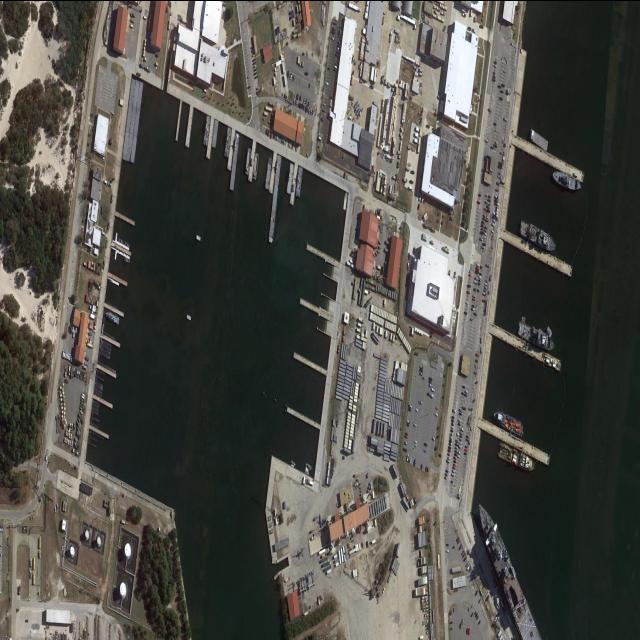large-vehicle: (33, 554, 35, 569), (39, 534, 41, 549), (33, 570, 35, 583), (30, 556, 32, 566), (30, 568, 32, 578), (39, 549, 41, 558)
ship: (474, 495, 543, 639), (519, 218, 557, 254), (518, 319, 555, 354), (498, 440, 536, 473), (268, 153, 282, 242), (493, 406, 523, 438), (551, 168, 582, 193), (230, 132, 240, 190), (529, 127, 549, 151), (265, 155, 273, 189), (203, 113, 211, 145), (295, 165, 303, 196), (224, 125, 232, 156), (105, 309, 120, 324), (287, 161, 294, 193), (212, 118, 219, 147), (245, 146, 252, 174), (253, 151, 259, 179), (358, 105, 363, 119), (305, 460, 312, 469), (353, 99, 358, 110), (356, 105, 361, 115), (290, 458, 296, 466), (515, 426, 521, 433), (355, 103, 359, 113), (101, 202, 104, 214), (516, 421, 521, 428), (505, 417, 510, 424), (105, 236, 108, 247), (510, 420, 516, 425), (103, 259, 106, 268), (108, 220, 110, 231), (512, 417, 516, 422), (111, 193, 113, 202)
small-vehicle: (63, 419, 68, 428), (60, 397, 65, 406), (61, 409, 66, 417), (61, 401, 66, 409), (60, 393, 65, 401), (62, 416, 66, 425), (60, 381, 65, 388), (61, 414, 66, 421), (350, 250, 355, 257), (463, 554, 467, 562), (494, 614, 498, 622), (62, 405, 66, 413), (60, 389, 64, 397), (460, 425, 465, 431), (70, 365, 73, 375), (408, 402, 413, 408), (462, 551, 466, 558), (465, 560, 469, 567), (468, 565, 472, 572), (470, 610, 474, 617), (60, 386, 64, 393), (253, 62, 257, 69), (136, 71, 141, 76), (452, 461, 457, 466), (479, 22, 484, 27), (471, 27, 476, 32), (410, 169, 415, 174), (409, 178, 414, 183), (493, 142, 498, 147), (494, 139, 499, 144), (461, 549, 465, 555), (459, 542, 462, 550), (471, 602, 475, 608), (475, 588, 478, 596), (468, 627, 471, 635), (466, 626, 469, 634), (459, 621, 462, 629), (458, 442, 462, 448), (457, 452, 461, 458), (68, 365, 71, 373), (475, 268, 479, 274), (331, 34, 335, 40), (488, 106, 492, 112), (406, 421, 410, 427), (403, 445, 407, 451), (85, 355, 89, 361), (431, 386, 435, 392), (287, 69, 290, 77), (318, 134, 322, 140), (253, 69, 257, 75), (267, 128, 270, 136), (478, 617, 481, 624), (478, 597, 481, 604), (461, 617, 464, 624), (420, 462, 423, 469), (303, 95, 306, 102), (252, 56, 255, 63), (447, 457, 451, 462), (447, 451, 451, 456), (450, 427, 454, 432), (131, 11, 135, 16), (464, 309, 468, 314), (470, 316, 474, 321), (460, 429, 464, 434), (452, 464, 456, 469), (453, 455, 457, 460), (454, 448, 458, 453), (458, 416, 462, 421), (69, 421, 71, 431), (81, 393, 85, 398), (80, 399, 84, 404), (71, 422, 73, 432), (486, 262, 490, 267), (335, 51, 339, 56), (331, 29, 335, 34), (331, 25, 335, 30), (349, 258, 353, 263), (441, 10, 445, 15), (462, 11, 466, 16), (498, 173, 502, 178), (498, 163, 503, 167), (498, 160, 503, 164), (468, 25, 472, 30), (503, 68, 507, 73), (494, 197, 498, 202), (485, 137, 489, 142), (499, 95, 503, 100), (500, 88, 504, 93), (325, 80, 329, 85), (466, 289, 470, 294), (414, 438, 418, 443), (407, 418, 411, 423), (404, 433, 408, 438), (427, 391, 431, 396), (88, 330, 92, 335), (415, 350, 419, 355), (102, 230, 106, 235), (111, 109, 115, 114), (247, 84, 251, 89), (254, 74, 258, 79), (456, 535, 459, 541), (467, 563, 470, 569), (474, 608, 477, 614), (475, 611, 478, 617), (476, 613, 479, 619), (468, 605, 471, 611), (472, 305, 475, 311), (73, 366, 75, 375), (77, 368, 79, 377), (81, 370, 83, 379), (82, 370, 84, 379), (80, 401, 83, 407), (56, 502, 59, 508), (444, 471, 448, 475), (444, 475, 448, 479), (445, 468, 449, 472), (447, 455, 451, 459), (447, 447, 451, 451), (453, 605, 455, 613), (459, 433, 463, 437), (458, 440, 462, 444), (469, 406, 473, 410), (451, 414, 455, 418), (473, 311, 477, 315), (462, 405, 466, 409), (464, 392, 468, 396), (452, 407, 456, 411), (453, 458, 457, 462), (454, 451, 458, 455), (455, 438, 459, 442), (461, 390, 465, 394), (73, 329, 75, 337), (75, 326, 77, 334), (69, 352, 71, 360), (68, 351, 70, 359), (66, 351, 68, 359), (65, 350, 67, 358), (66, 435, 68, 443), (66, 427, 68, 435), (472, 296, 476, 300), (465, 299, 469, 303), (479, 264, 483, 268), (482, 244, 486, 248), (482, 241, 486, 245), (481, 219, 485, 223), (486, 207, 490, 211), (478, 274, 482, 278), (327, 65, 331, 69), (375, 207, 377, 215), (474, 279, 478, 283), (492, 77, 496, 81), (492, 70, 496, 74), (493, 121, 497, 125), (498, 170, 502, 174), (476, 262, 480, 266), (477, 199, 481, 203), (491, 228, 495, 232), (495, 187, 499, 191), (496, 180, 500, 184), (490, 144, 494, 148), (500, 150, 504, 154), (504, 116, 508, 120), (424, 441, 428, 445), (408, 406, 412, 410), (405, 430, 409, 434), (415, 407, 419, 411), (419, 399, 423, 403), (467, 283, 471, 287), (484, 285, 488, 289), (282, 91, 284, 99), (284, 91, 286, 99), (290, 71, 292, 79), (270, 130, 272, 138), (108, 181, 112, 185), (130, 23, 134, 27), (130, 18, 134, 22), (457, 538, 460, 543), (449, 437, 452, 442), (464, 450, 467, 455), (476, 351, 479, 356), (475, 357, 478, 362), (82, 391, 85, 396), (81, 396, 84, 401), (80, 409, 83, 414), (472, 302, 475, 307), (480, 236, 483, 241), (323, 101, 326, 106), (475, 275, 478, 280), (334, 66, 337, 71), (492, 73, 495, 78), (355, 238, 358, 243), (495, 193, 498, 198), (322, 107, 325, 112), (321, 116, 324, 121), (431, 392, 434, 397), (432, 435, 435, 440), (435, 411, 438, 416), (144, 14, 147, 19), (254, 66, 257, 71), (253, 60, 256, 65), (481, 346, 483, 353), (481, 335, 483, 342), (78, 369, 80, 376), (80, 370, 82, 377), (64, 350, 66, 357), (46, 453, 48, 460), (64, 435, 66, 442), (68, 437, 70, 444), (71, 438, 73, 445), (67, 429, 69, 436), (70, 431, 72, 438), (407, 453, 409, 460), (410, 455, 412, 462), (414, 458, 416, 465), (425, 464, 427, 471), (282, 136, 284, 143), (293, 97, 295, 104), (299, 101, 301, 108), (300, 101, 302, 108), (303, 103, 305, 110), (307, 106, 309, 113), (299, 94, 301, 101), (283, 137, 285, 144), (276, 132, 278, 139), (452, 544, 456, 547), (446, 547, 449, 551), (448, 445, 451, 449), (449, 441, 452, 445), (449, 434, 452, 438), (450, 431, 453, 435), (450, 626, 453, 630), (450, 620, 453, 624), (451, 424, 454, 428), (466, 433, 469, 437), (459, 436, 462, 440), (458, 450, 461, 454), (464, 447, 467, 451), (475, 379, 478, 383), (452, 471, 455, 475), (452, 468, 455, 472), (454, 445, 458, 448), (454, 441, 458, 444), (457, 431, 460, 435), (458, 421, 461, 425), (459, 410, 462, 414), (458, 407, 462, 410), (465, 388, 468, 392), (462, 384, 465, 388), (72, 326, 74, 332), (80, 405, 83, 409), (481, 226, 484, 230), (475, 265, 479, 268), (479, 271, 482, 275), (484, 231, 487, 235), (480, 230, 483, 234), (484, 224, 487, 228), (483, 213, 486, 217), (486, 215, 489, 219), (334, 64, 338, 67), (336, 49, 339, 53), (337, 43, 340, 47), (487, 200, 490, 204), (487, 197, 491, 200), (494, 63, 497, 67), (503, 142, 506, 146), (488, 193, 492, 196), (502, 82, 505, 86), (478, 192, 481, 196), (492, 222, 495, 226), (492, 214, 495, 218), (493, 210, 496, 214), (494, 201, 498, 204), (490, 167, 493, 171), (404, 440, 407, 444), (424, 447, 427, 451), (427, 465, 429, 471), (414, 422, 417, 426), (473, 292, 476, 296), (473, 287, 477, 290), (482, 298, 485, 302), (483, 290, 486, 294), (483, 288, 486, 292), (485, 281, 488, 285), (478, 281, 481, 285), (436, 405, 439, 409), (429, 379, 432, 383), (429, 376, 433, 379), (422, 375, 425, 379), (419, 370, 423, 373), (419, 367, 423, 370), (302, 102, 304, 108), (309, 107, 311, 113), (310, 107, 312, 113), (308, 99, 310, 105), (305, 97, 307, 103), (304, 71, 308, 74), (104, 179, 107, 183), (247, 74, 250, 78), (251, 48, 254, 52), (337, 45, 339, 50), (294, 99, 296, 104), (296, 99, 298, 104), (446, 542, 449, 545), (451, 421, 454, 424), (451, 418, 454, 421), (465, 444, 468, 447), (466, 437, 469, 440), (451, 479, 454, 482), (71, 353, 72, 362), (483, 234, 486, 237), (484, 228, 487, 231), (481, 223, 484, 226), (485, 217, 488, 220), (478, 278, 481, 281), (334, 61, 337, 64), (337, 40, 340, 43), (487, 204, 490, 207), (494, 60, 497, 63), (485, 193, 488, 196), (492, 218, 495, 221), (414, 442, 417, 445), (477, 287, 480, 290), (429, 383, 432, 386), (420, 364, 423, 367), (257, 86, 260, 89), (252, 53, 255, 56), (63, 348, 64, 356), (55, 504, 56, 512), (70, 438, 71, 445), (474, 370, 476, 373), (69, 431, 70, 437), (482, 217, 485, 219), (485, 200, 487, 203), (298, 100, 299, 106), (267, 128, 268, 133), (484, 207, 486, 209)
storage-tank: (120, 580, 127, 597), (124, 542, 131, 557), (70, 544, 75, 556), (85, 528, 90, 538), (97, 536, 101, 545)
